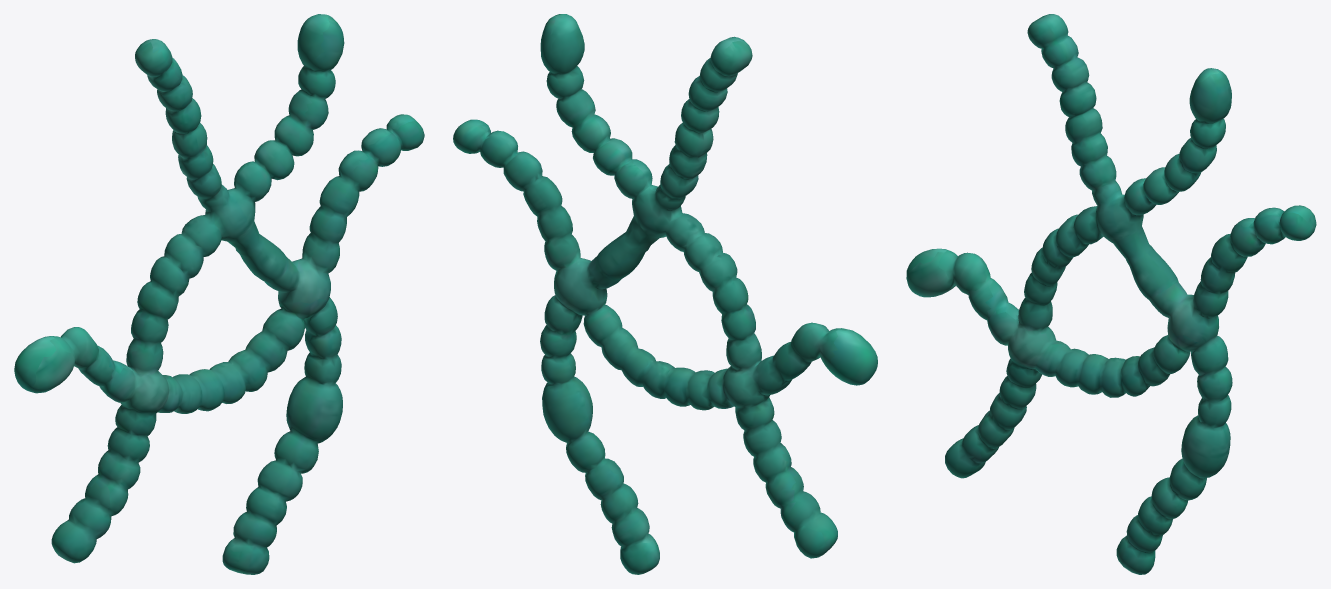
Rendered from cyanobacteria.glb.
3 renders of one model, left to right at view 1: azimuth 30°, elevation 25°; view 2: azimuth 150°, elevation 25°; view 3: azimuth 330°, elevation 25°, orthographic. The views are drawn at different scales.
Parts seen in each view (by area): view 1: tripo_node_9b63d9da-daec-4ad4-b0fc-462f64bf8834.005; view 2: tripo_node_9b63d9da-daec-4ad4-b0fc-462f64bf8834.005; view 3: tripo_node_9b63d9da-daec-4ad4-b0fc-462f64bf8834.005.
Part boxes in pixels (x1,y1,x2,y2): tripo_node_9b63d9da-daec-4ad4-b0fc-462f64bf8834.005: [14, 14, 424, 574]; tripo_node_9b63d9da-daec-4ad4-b0fc-462f64bf8834.005: [453, 14, 877, 574]; tripo_node_9b63d9da-daec-4ad4-b0fc-462f64bf8834.005: [906, 14, 1316, 574].
Bounding box in the file's own units: 0.776 × 1 × 0.0991.
Materials: 1 (1 with a texture image).
